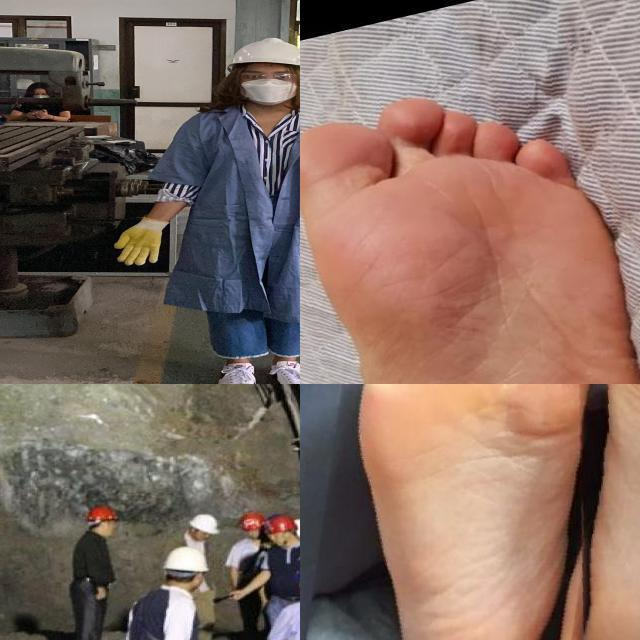Barefoots: (300, 97, 640, 384), (357, 384, 589, 640)
face_mask: (235, 69, 300, 104), (30, 90, 51, 102)
face_nomask: (266, 530, 286, 546), (244, 526, 262, 540), (195, 530, 212, 542)
glasses: (233, 70, 300, 85)
hand_glove: (109, 216, 174, 268)
hand_noglove: (91, 584, 110, 600), (34, 109, 52, 121)
head_helmet: (225, 35, 300, 68), (161, 545, 211, 575), (259, 511, 300, 537), (186, 511, 222, 536), (234, 508, 268, 534), (84, 505, 119, 522)
head_nohelmet: (28, 81, 53, 92)
person: (108, 31, 300, 384), (63, 502, 124, 640), (124, 545, 211, 640), (228, 507, 281, 640)
shoes: (212, 357, 264, 384), (262, 353, 300, 384)
